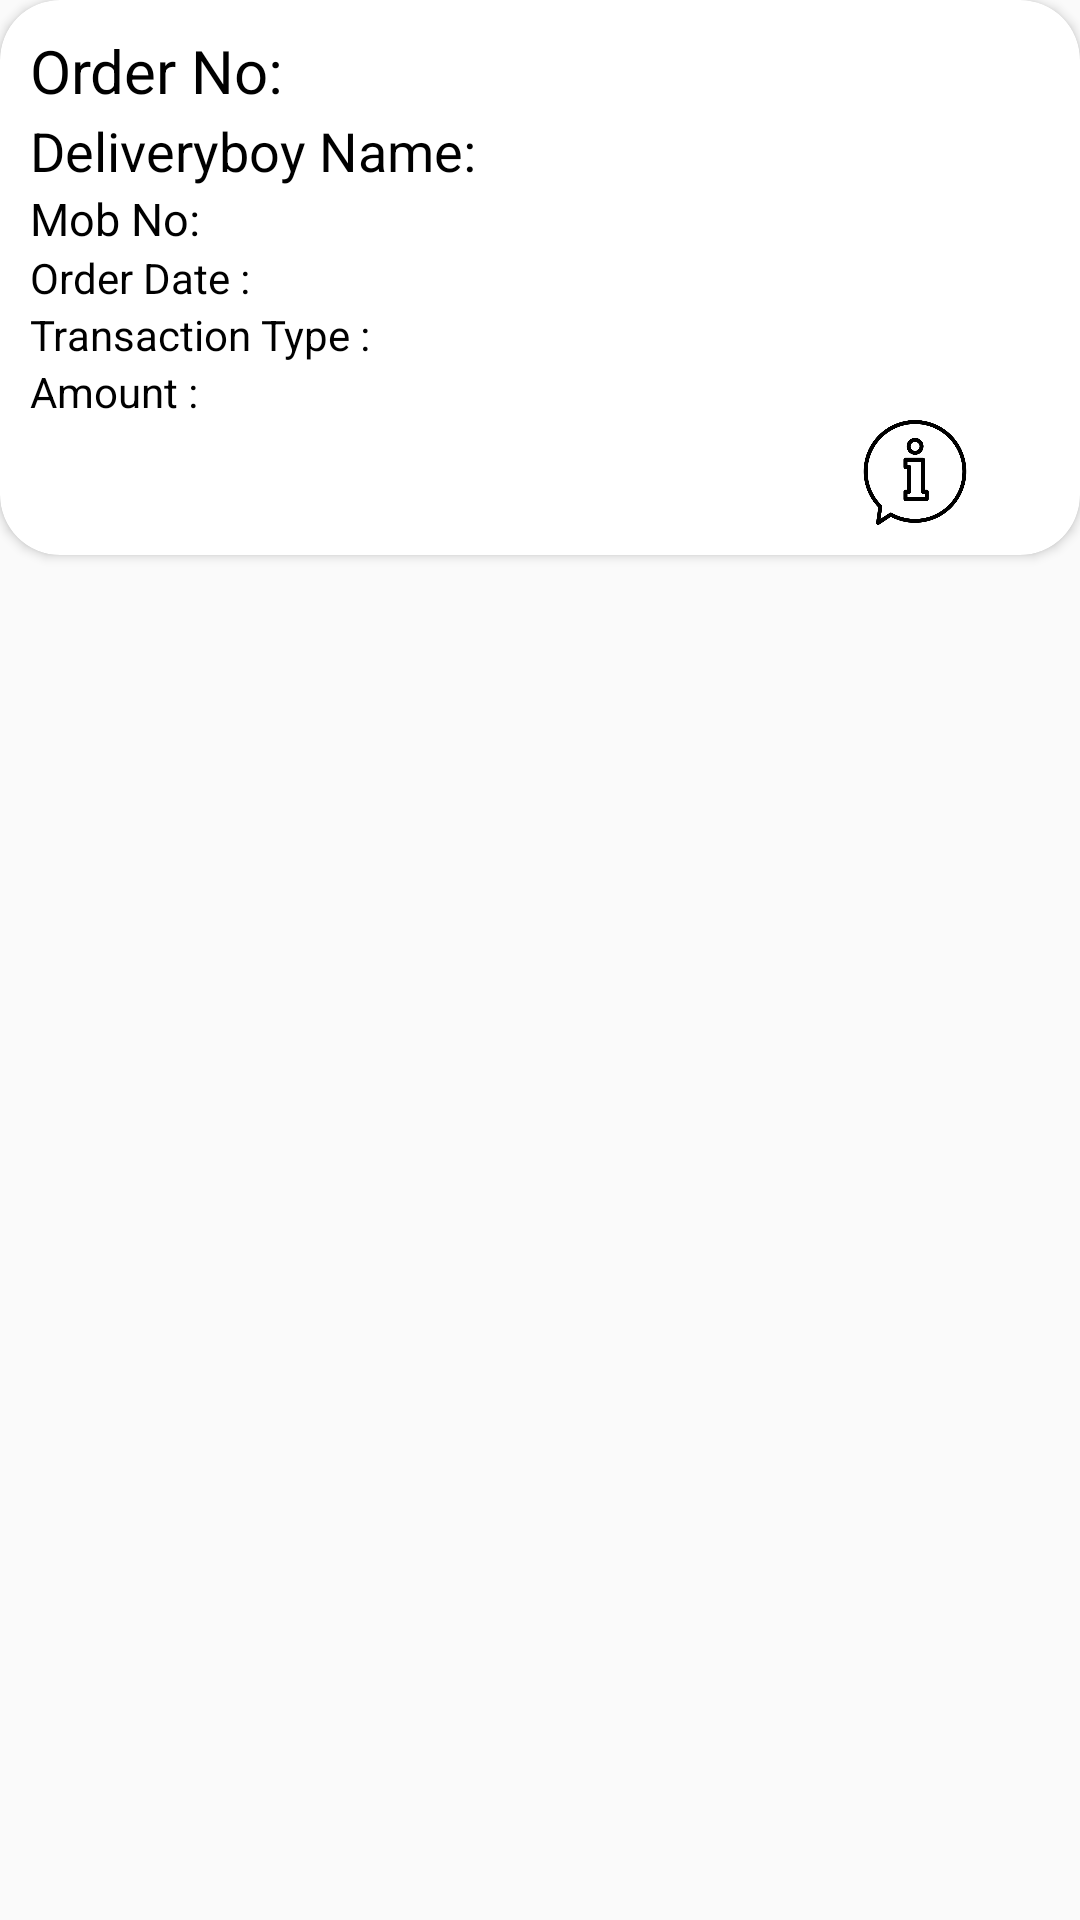

Icons on this 1080px×1920px Android screen, each with its box as bbox(x1, y1, x2, y2):
info: bbox(863, 420, 967, 525)
